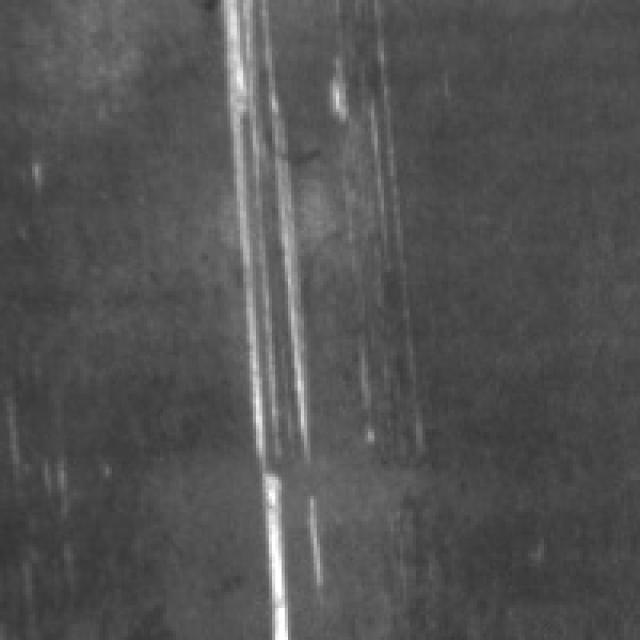scratches: (224, 0, 323, 634), (330, 19, 410, 189)
